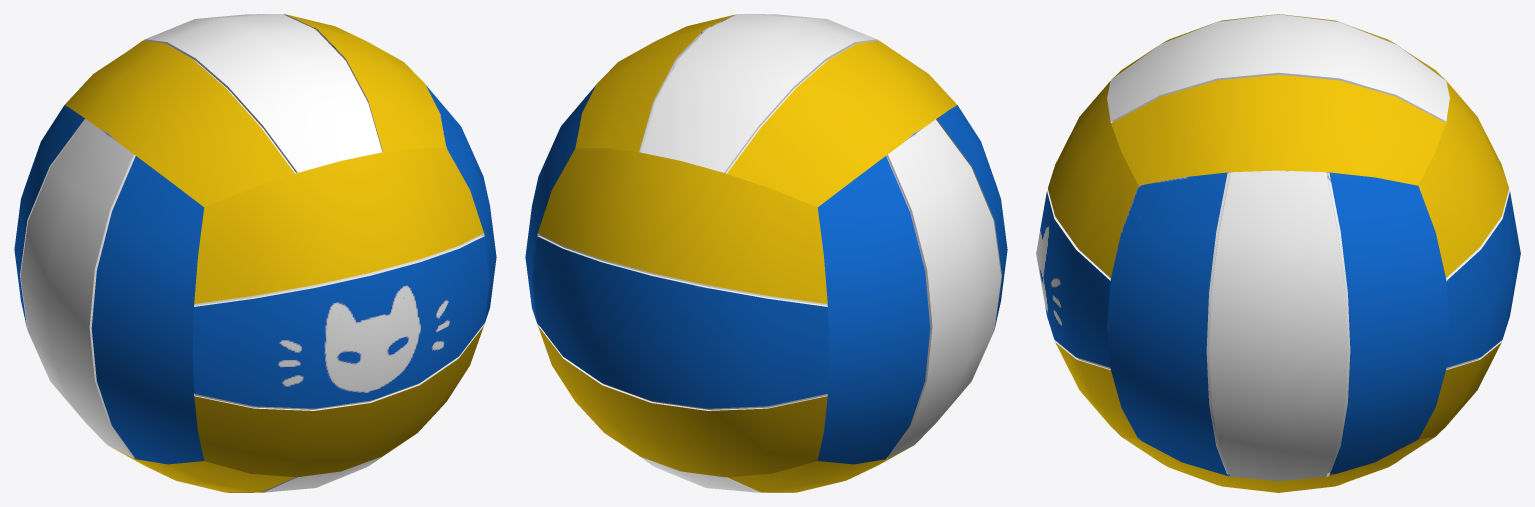
File: ballball2.fbx
3 views of the same model, side by side, from view 1: azimuth 30°, elevation 25°; view 2: azimuth 150°, elevation 25°; view 3: azimuth 270°, elevation 25° (orthographic).
Parts seen in each view (by area): view 1: Cube.003; view 2: Cube.003; view 3: Cube.003.
Part boxes in pixels (box(x1,y1,x2,y2)): Cube.003: box(14, 14, 496, 492); Cube.003: box(525, 14, 1007, 492); Cube.003: box(1036, 14, 1520, 492).
Bounding box in the file's own units: 0.3464 × 0.3464 × 0.3464.
